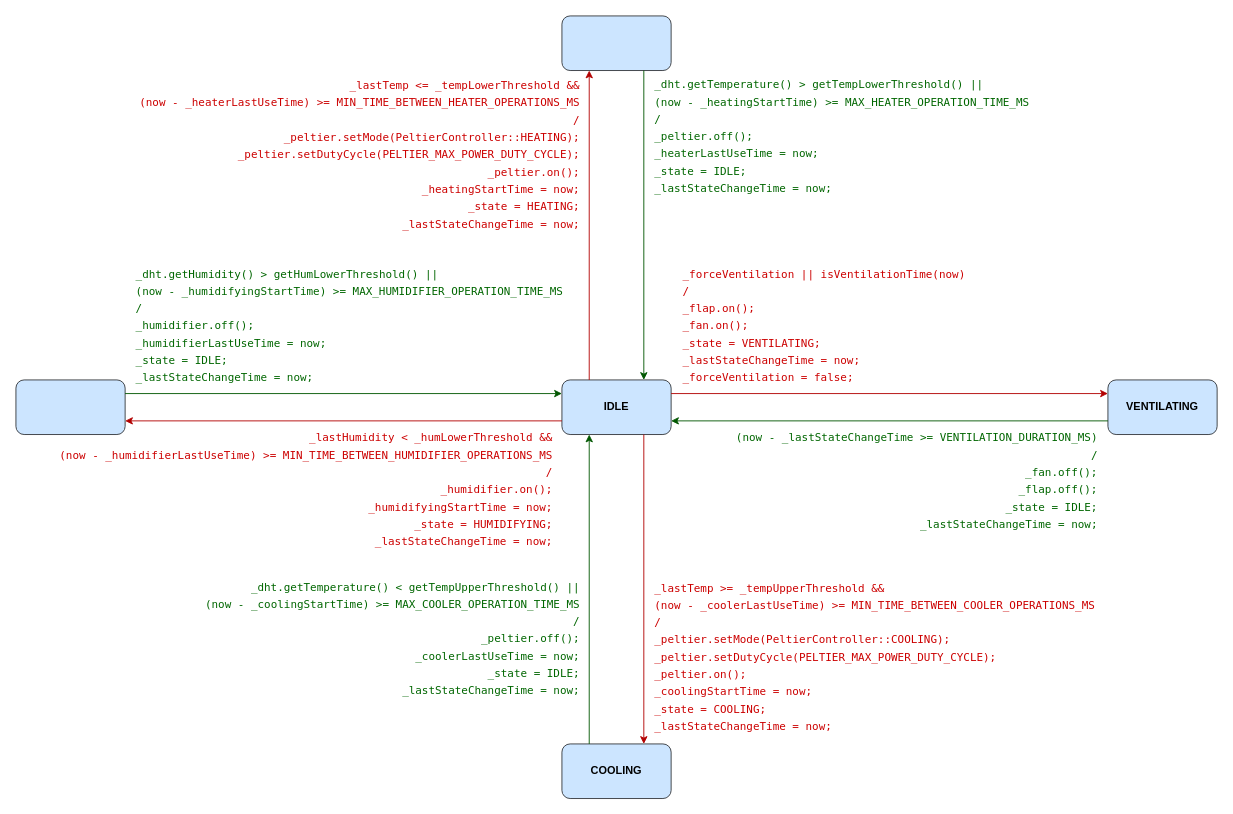
This 1233x814 diagram has some shape labels left out. The shapes that lost their labels are listed below. From the top down, each one's centre as x and y in pixels, then its label:
At (616,43): "HEATING".
At (70,407): "HUMIDIFYING".
